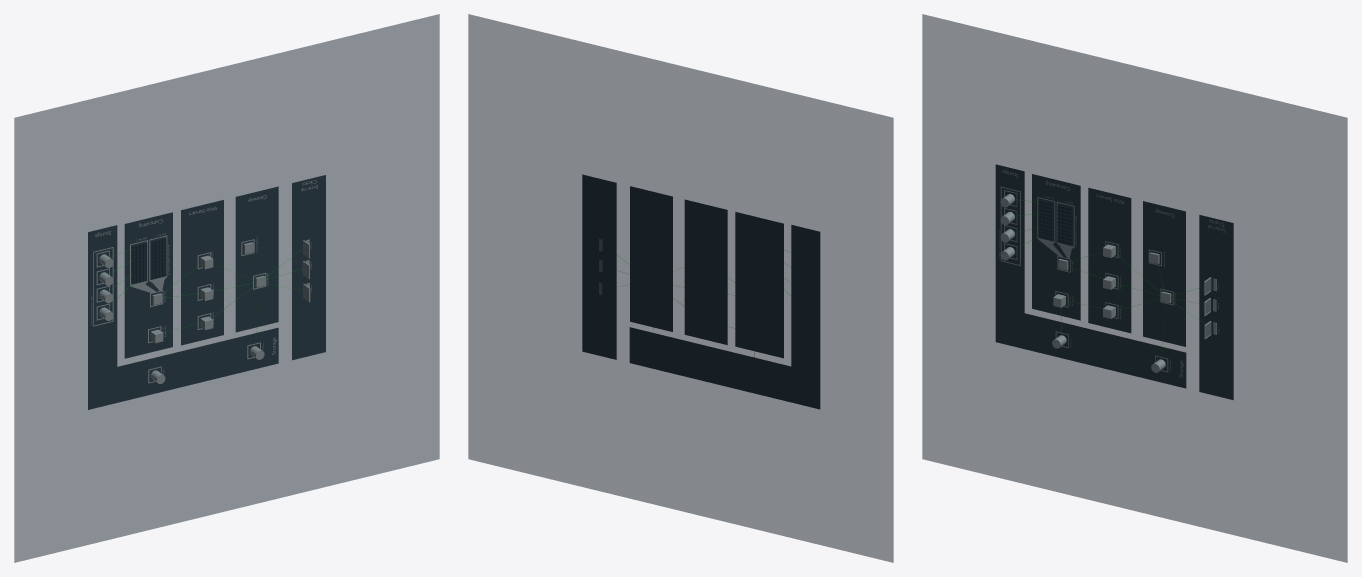
Rendered from SampleArchitecture.obj.
3 views of the same model, side by side, from view 1: azimuth 30°, elevation 25°; view 2: azimuth 150°, elevation 25°; view 3: azimuth 330°, elevation 25° (orthographic).
Visible parts, largest first — view 1: ground_Plane.002, SectorA.003_Plane.021, SectorA.000_Plane.016, SectorB_Plane.010, SectorA.002_Plane.015, SectorA.001_Plane.000, grid.000_Plane.028, grid.001_Plane.020; view 2: ground_Plane.002, SectorA.003_Plane.021, SectorA.002_Plane.015, SectorB_Plane.010, SectorA.001_Plane.000, SectorA.000_Plane.016; view 3: ground_Plane.002, SectorA.003_Plane.021, SectorB_Plane.010, SectorA.002_Plane.015, SectorA.000_Plane.016, SectorA.001_Plane.000, grid.000_Plane.028, grid.001_Plane.020.
Boxes of the visible parts, x1,y1,x2,y2 form: ground_Plane.002: [14, 14, 439, 562]; SectorA.003_Plane.021: [88, 225, 278, 409]; SectorA.000_Plane.016: [235, 186, 278, 332]; SectorB_Plane.010: [292, 175, 325, 360]; SectorA.002_Plane.015: [124, 212, 172, 358]; SectorA.001_Plane.000: [181, 200, 223, 345]; grid.000_Plane.028: [151, 238, 166, 279]; grid.001_Plane.020: [132, 243, 147, 284]; ground_Plane.002: [468, 14, 893, 562]; SectorA.003_Plane.021: [629, 225, 820, 409]; SectorA.002_Plane.015: [735, 212, 783, 358]; SectorB_Plane.010: [582, 174, 616, 359]; SectorA.001_Plane.000: [684, 199, 727, 344]; SectorA.000_Plane.016: [630, 186, 672, 331]; ground_Plane.002: [922, 14, 1347, 562]; SectorA.003_Plane.021: [995, 164, 1186, 388]; SectorB_Plane.010: [1199, 215, 1233, 400]; SectorA.002_Plane.015: [1032, 174, 1080, 320]; SectorA.000_Plane.016: [1143, 201, 1185, 346]; SectorA.001_Plane.000: [1088, 187, 1131, 333]; grid.000_Plane.028: [1057, 204, 1072, 245]; grid.001_Plane.020: [1038, 200, 1053, 240].
Size of the model in its own units: 396 by 396 by 10.42.
